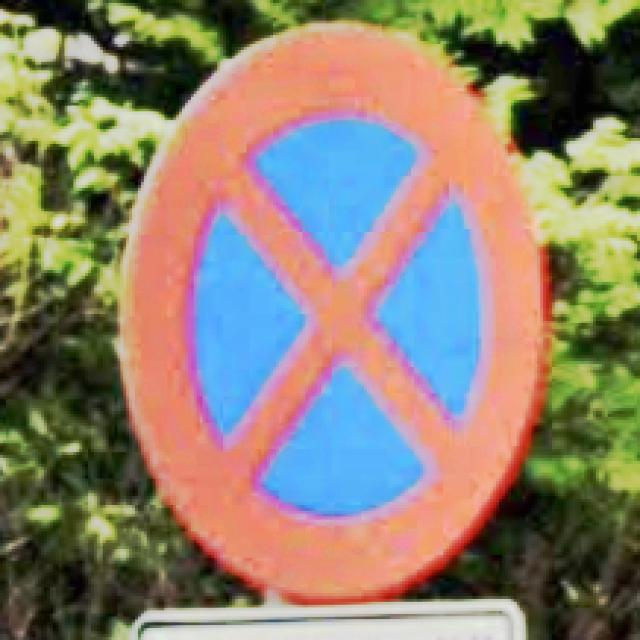nopark: (117, 23, 549, 605)
